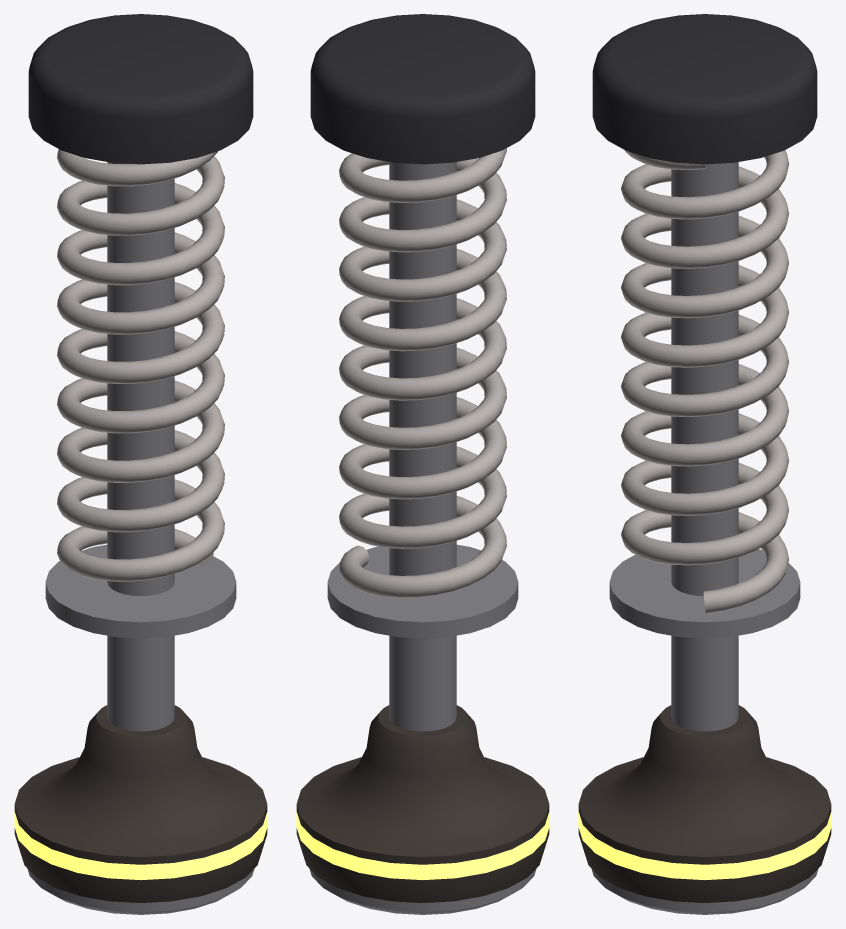
Rendered from Ressort_Modele.fbx.
3 views of the same model, side by side, from view 1: azimuth 30°, elevation 25°; view 2: azimuth 150°, elevation 25°; view 3: azimuth 270°, elevation 25° (orthographic).
Visible parts, largest first — view 1: Ressort_Modele; view 2: Ressort_Modele; view 3: Ressort_Modele.
Boxes of the visible parts, x1,y1,x2,y2 form: Ressort_Modele: (14, 14, 267, 914); Ressort_Modele: (296, 14, 549, 914); Ressort_Modele: (578, 14, 831, 914).
Size of the model in its own units: 0.451 by 1.6 by 0.451.
